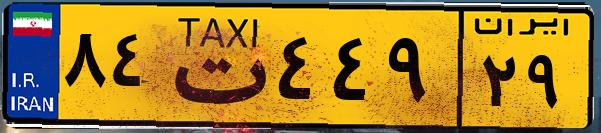2: (475, 38, 525, 113)
4: (270, 28, 330, 110), (330, 28, 385, 110), (110, 28, 158, 98)
8: (57, 26, 110, 100)
9: (385, 28, 445, 110), (525, 38, 570, 115)
ت: (158, 12, 270, 120)
